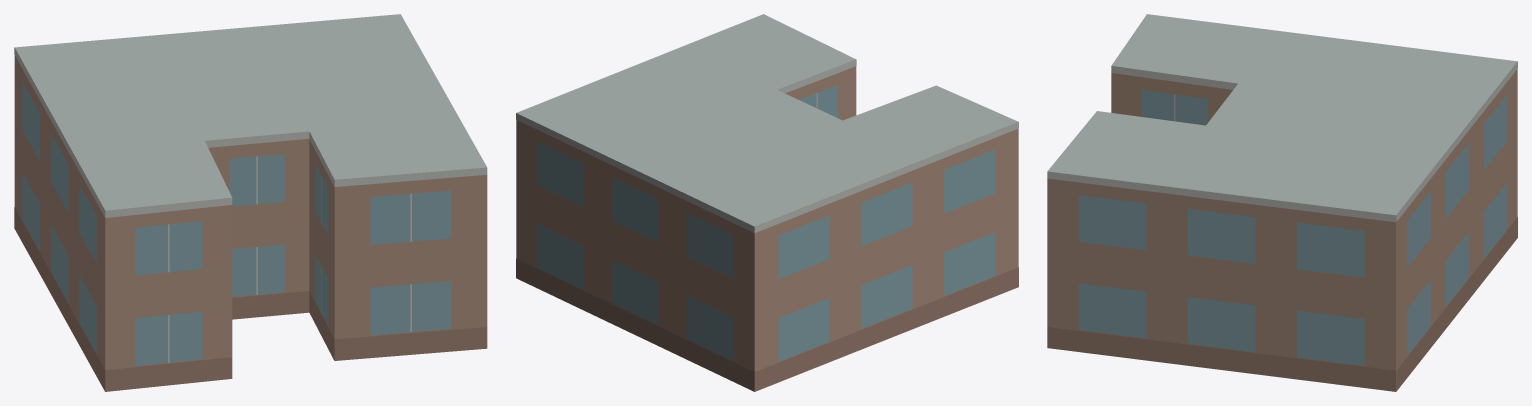
The model's file is survey-upis-32752432.glb.
The picture shows the model from 3 angles, left to right: view 1: azimuth 30°, elevation 25°; view 2: azimuth 150°, elevation 25°; view 3: azimuth 270°, elevation 25°; orthographic projection. The views are drawn at different scales.
Parts seen in each view (by area): view 1: survey-upis-32752432.tmp; view 2: survey-upis-32752432.tmp; view 3: survey-upis-32752432.tmp.
Boxes of the visible parts, box(x1,y1,x2,y2) form: survey-upis-32752432.tmp: box(14, 14, 487, 391); survey-upis-32752432.tmp: box(516, 14, 1018, 391); survey-upis-32752432.tmp: box(1047, 14, 1517, 391).
Size of the model in its own units: 14.93 by 6.1 by 14.75.
